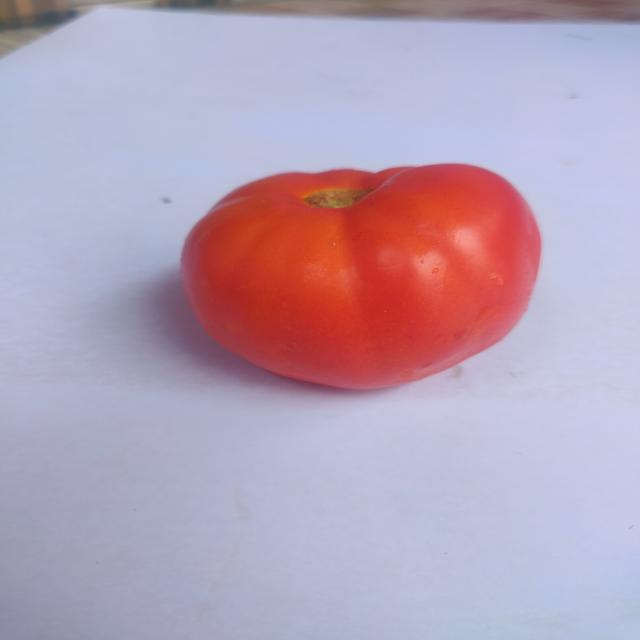Tomato: (162, 153, 554, 408)
